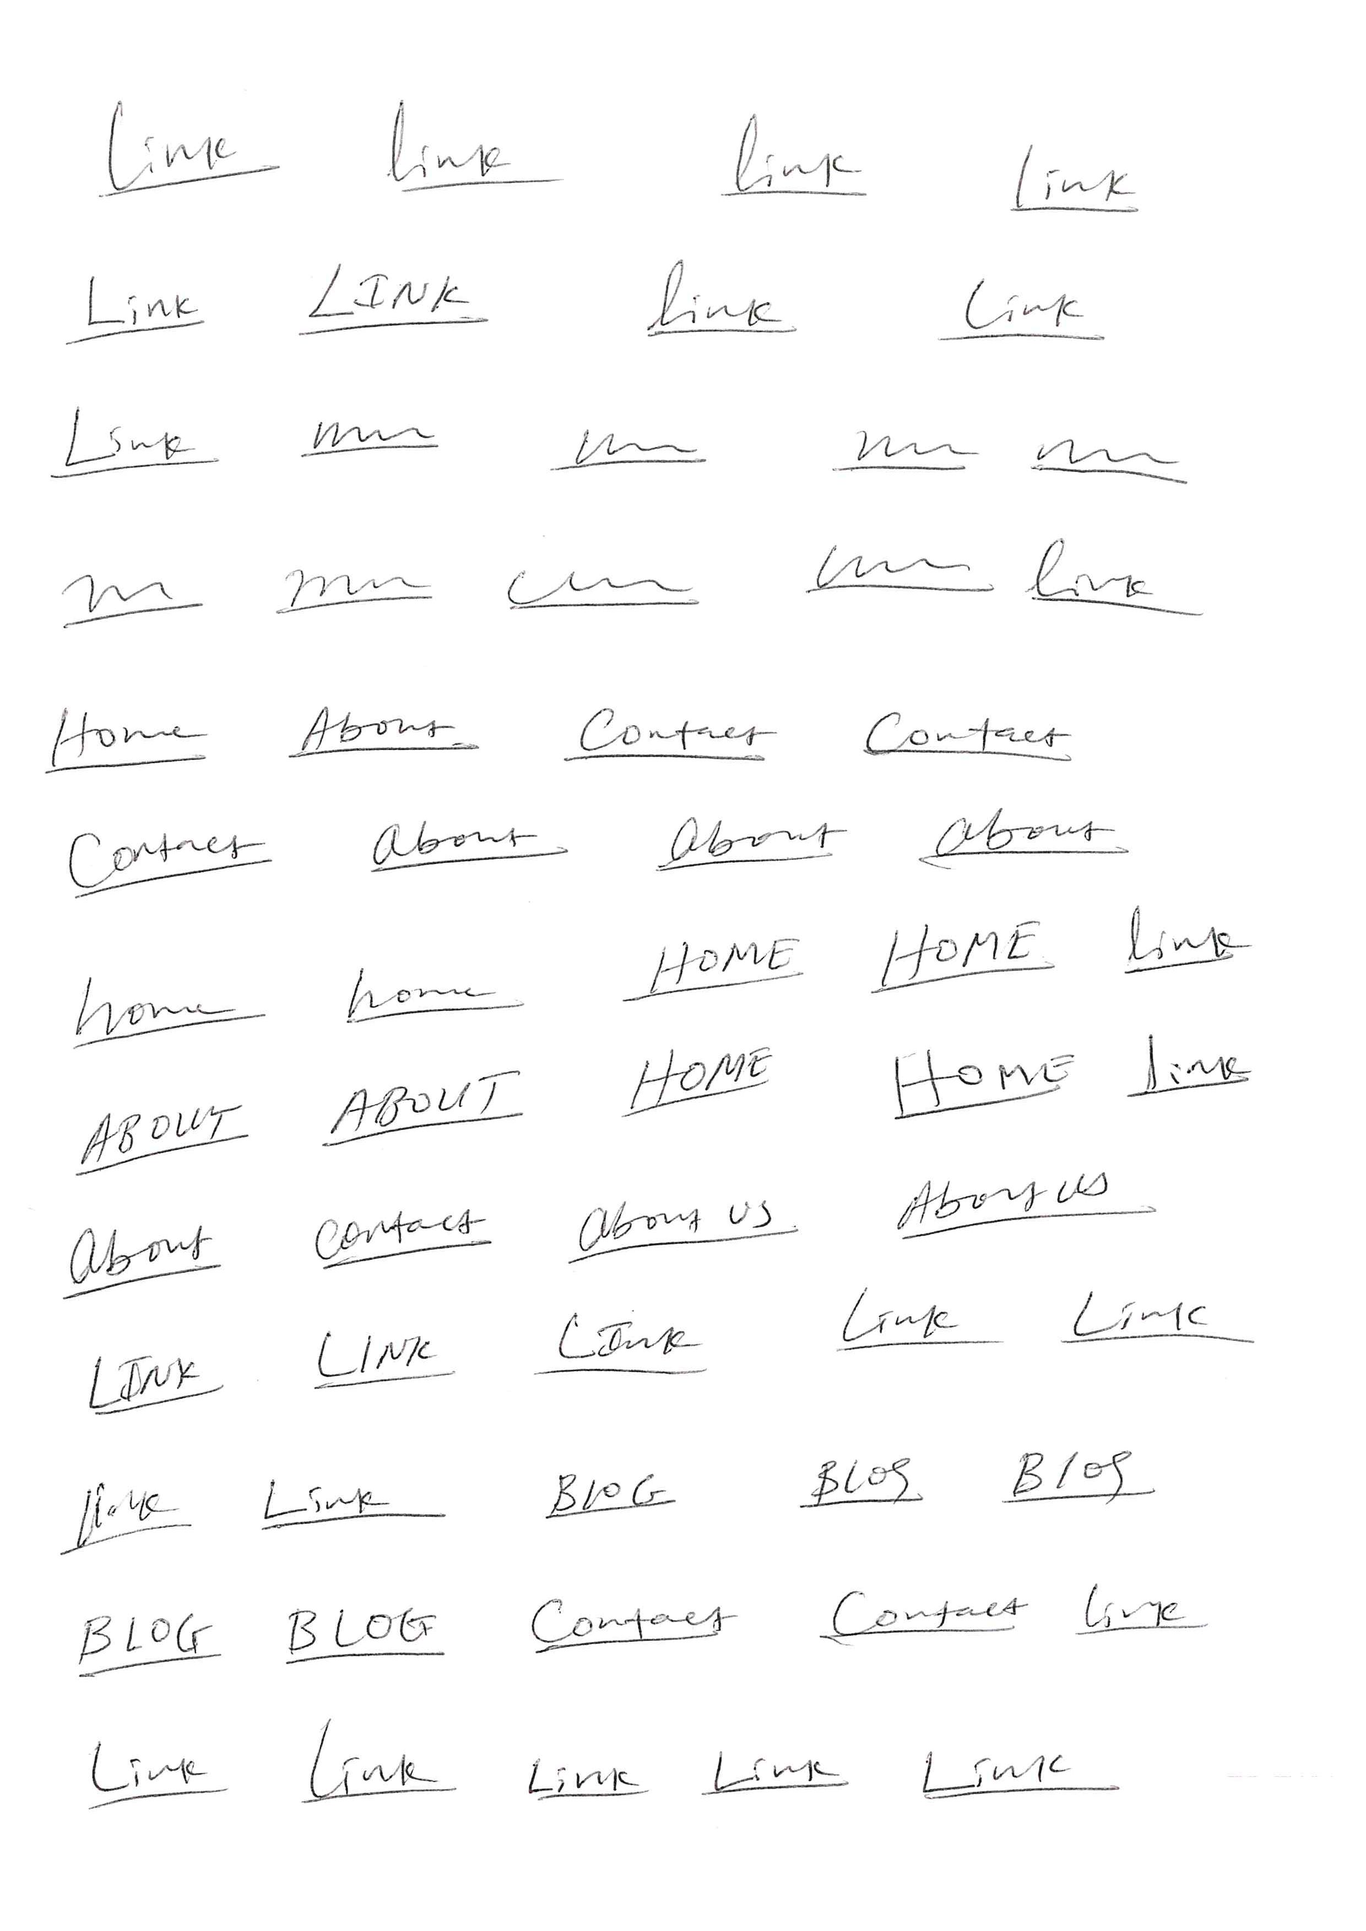Link: (95, 99, 284, 203), (381, 99, 563, 197), (894, 1167, 1135, 1239), (327, 1059, 526, 1146), (566, 1193, 798, 1267), (296, 260, 492, 343), (64, 827, 275, 903), (71, 971, 268, 1051), (294, 1717, 463, 1807), (866, 918, 1060, 997), (619, 929, 806, 1008), (890, 1045, 1078, 1124), (71, 1102, 251, 1177), (47, 407, 223, 483), (640, 256, 801, 339), (718, 114, 874, 200), (62, 1221, 222, 1304), (516, 1592, 739, 1652), (918, 804, 1129, 863), (565, 707, 781, 764), (933, 275, 1109, 345), (655, 815, 854, 875), (616, 1042, 773, 1119), (44, 705, 211, 776), (863, 710, 1078, 764), (64, 1609, 214, 1686), (816, 1586, 1022, 1643), (310, 1201, 483, 1267), (284, 704, 482, 761), (1022, 538, 1159, 620), (64, 274, 208, 349), (826, 1283, 977, 1354), (541, 1311, 696, 1379), (341, 967, 513, 1028), (81, 1737, 228, 1808), (84, 1351, 229, 1422), (370, 818, 557, 872), (1053, 1286, 1226, 1345), (306, 1326, 463, 1391), (1008, 140, 1144, 214), (281, 1601, 446, 1662), (1119, 903, 1254, 977), (59, 1482, 183, 1558), (1121, 1031, 1255, 1100), (256, 1476, 424, 1530), (1004, 1445, 1144, 1507), (922, 1749, 1087, 1801), (699, 1748, 856, 1799), (543, 1467, 679, 1524), (544, 427, 707, 475), (795, 1450, 920, 1511), (826, 427, 985, 475), (512, 1754, 648, 1808), (1070, 1579, 1199, 1635), (296, 420, 445, 461)
